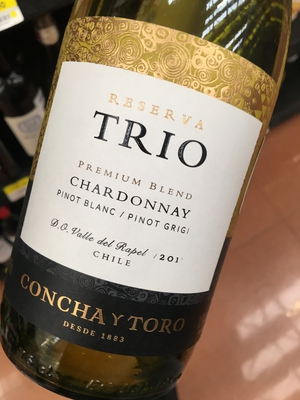trio chardonnay: (7, 8, 293, 392)
